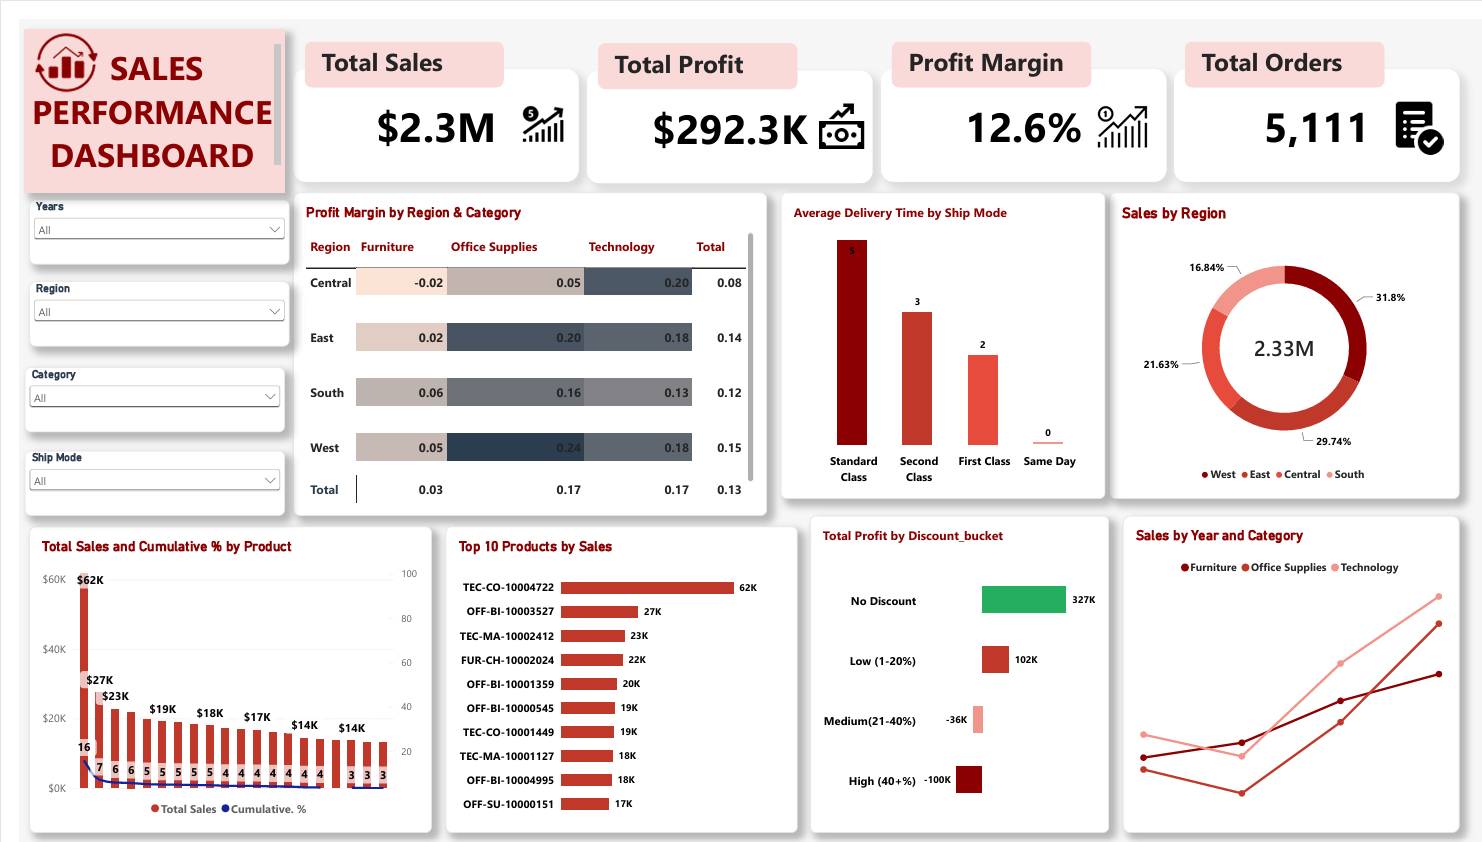

What the dashboard file says about the page in this screenshot:
{"tool":"powerbi","page":{"name":"Page 1","canvas":[1920,1080],"ordinal":0},"visuals":[{"type":"card","title":"Total Sales","fields":{"Values":["Orders.Profit Margin"]},"box":[1125.6,65.2,372.8,146.6],"z":0,"group":"g2"},{"type":"card","title":"Total Sales","fields":{"Values":["Orders.Total Orders"]},"box":[1509.3,65.2,372.8,146.6],"z":0,"group":"g3"},{"type":"card","title":"Total Sales","fields":{"Values":["Orders.Total Profit"]},"box":[742,67,372.8,146.6],"z":0,"group":"g1"},{"type":"textbox","box":[365.6,427.1,381.8,204.5],"z":0},{"type":"card","title":"Total Sales","fields":{"Values":["Orders.Total Sales"]},"box":[358.3,65,372.8,146.6],"z":1000},{"type":"group","id":"g1","title":"Group 1","box":[742,30.8,372.8,182.8],"z":2000},{"type":"shape","box":[372.8,29,260.6,59.7],"z":3000},{"type":"shape","box":[1140.1,29,260.6,59.7],"z":3000,"group":"g2"},{"type":"shape","box":[1523.8,29,260.6,59.7],"z":3000,"group":"g3"},{"type":"shape","box":[756.5,30.8,260.6,59.7],"z":3000,"group":"g1"},{"type":"group","id":"g2","title":"Group 1","box":[1125.6,29,372.8,182.8],"z":4000},{"type":"textbox","box":[1161.8,32.6,217.2,56.1],"z":4000,"group":"g2"},{"type":"textbox","box":[1545.5,32.6,217.2,56.1],"z":4000,"group":"g3"},{"type":"textbox","box":[778.2,34.4,217.2,56.1],"z":4000,"group":"g1"},{"type":"textbox","box":[394.5,32.6,217.2,56.1],"z":5000},{"type":"group","id":"g3","title":"Group 1","box":[1509.3,29,372.8,182.8],"z":6000},{"type":"lineChart","title":"Sales by Year and Category","fields":{"Category":["Orders.Order Date.Variation.Date Hierarchy.Year"],"Y":["Orders.Total Sales"],"Series":["Orders.Category"]},"box":[1426,656.9,456,405.4],"z":7000},{"type":"donutChart","title":"Sales by Region","fields":{"Category":["Orders.Region"],"Y":["Orders.Total Sales"]},"box":[1424.2,226.2,457.8,421.7],"z":8000},{"type":"image","box":[637,105,94.1,65.1],"z":9000},{"type":"image","box":[1033.3,103.2,81.4,72.4],"z":10000},{"type":"image","box":[1400.7,103.2,81.4,72.4],"z":11000},{"type":"image","box":[1784.3,105,81.4,72.4],"z":12000},{"type":"pivotTable","title":"Profit Margin by Region & Category","fields":{"Rows":["Orders.Region"],"Columns":["Orders.Category"],"Values":["Orders.Profit Margin"]},"box":[358.3,226.2,618.9,421.7],"z":13000},{"type":"pivotTable","fields":{"Rows":["Orders.Discount_bucket"],"Values":["Orders.Total Profit"]},"box":[1022.5,662.3,396.3,399.9],"z":14000},{"type":"clusteredColumnChart","fields":{"Category":["Orders.Ship Mode"],"Y":["Orders.Avg Delivery Days"]},"box":[995.3,226.2,423.5,421.7],"z":15000},{"type":"clusteredBarChart","title":"Top 10 Products by Sales","fields":{"Y":["Orders.Total Sales"],"Category":["Orders.Product ID"]},"box":[545,663,470,400],"z":16000},{"type":"lineStackedColumnComboChart","title":"Total Sales and Cumulative % by Product","fields":{"Y":["Orders.Total Sales"],"Category":["Orders.Product ID"],"Y2":["Orders.Cumulative. %"]},"box":[12.7,662.3,532,399.9],"z":17000},{"type":"slicer","fields":{"Values":["Orders.Years"]},"box":[12.7,235.3,340.2,85.1],"z":18000},{"type":"slicer","fields":{"Values":["Orders.Region"]},"box":[12.7,342,340.2,85.1],"z":19000},{"type":"slicer","fields":{"Values":["Orders.Category"]},"box":[7.2,454.2,340.2,85.1],"z":20000},{"type":"slicer","fields":{"Values":["Orders.Ship Mode"]},"box":[7.2,562.8,340.2,85.1],"z":21000},{"type":"shape","box":[7.2,12.7,340.2,213.5],"z":22000},{"type":"textbox","box":[7.2,25.3,320.3,224.4],"z":23000},{"type":"image","box":[18.1,12.7,86.9,86.9],"z":24000}]}

Visuals, with their boxes in screenshot pixels (x1, y1, x2, y2), scaled from the page's 1920x1080 canvas onto the 1482x842 screenshot:
"Total Sales" card: {"left": 869, "top": 51, "right": 1157, "bottom": 165}
"Total Sales" card: {"left": 1165, "top": 51, "right": 1453, "bottom": 165}
"Total Sales" card: {"left": 573, "top": 52, "right": 860, "bottom": 167}
textbox: {"left": 282, "top": 333, "right": 577, "bottom": 492}
"Total Sales" card: {"left": 277, "top": 51, "right": 564, "bottom": 165}
"Group 1" group: {"left": 573, "top": 24, "right": 860, "bottom": 167}
shape: {"left": 288, "top": 23, "right": 489, "bottom": 69}
shape: {"left": 880, "top": 23, "right": 1081, "bottom": 69}
shape: {"left": 1176, "top": 23, "right": 1377, "bottom": 69}
shape: {"left": 584, "top": 24, "right": 785, "bottom": 71}
"Group 1" group: {"left": 869, "top": 23, "right": 1157, "bottom": 165}
textbox: {"left": 897, "top": 25, "right": 1064, "bottom": 69}
textbox: {"left": 1193, "top": 25, "right": 1361, "bottom": 69}
textbox: {"left": 601, "top": 27, "right": 768, "bottom": 71}
textbox: {"left": 305, "top": 25, "right": 472, "bottom": 69}
"Group 1" group: {"left": 1165, "top": 23, "right": 1453, "bottom": 165}
"Sales by Year and Category" lineChart: {"left": 1101, "top": 512, "right": 1453, "bottom": 828}
"Sales by Region" donutChart: {"left": 1099, "top": 176, "right": 1453, "bottom": 505}
image: {"left": 492, "top": 82, "right": 564, "bottom": 133}
image: {"left": 798, "top": 80, "right": 860, "bottom": 137}
image: {"left": 1081, "top": 80, "right": 1144, "bottom": 137}
image: {"left": 1377, "top": 82, "right": 1440, "bottom": 138}
"Profit Margin by Region & Category" pivotTable: {"left": 277, "top": 176, "right": 754, "bottom": 505}
pivotTable - Orders.Discount_bucket x Orders.Total Profit: {"left": 789, "top": 516, "right": 1095, "bottom": 828}
clusteredColumnChart - Orders.Ship Mode x Orders.Avg Delivery Days: {"left": 768, "top": 176, "right": 1095, "bottom": 505}
"Top 10 Products by Sales" clusteredBarChart: {"left": 421, "top": 517, "right": 783, "bottom": 829}
"Total Sales and Cumulative % by Product" lineStackedColumnComboChart: {"left": 10, "top": 516, "right": 420, "bottom": 828}
slicer - Orders.Years: {"left": 10, "top": 183, "right": 272, "bottom": 250}
slicer - Orders.Region: {"left": 10, "top": 267, "right": 272, "bottom": 333}
slicer - Orders.Category: {"left": 6, "top": 354, "right": 268, "bottom": 420}
slicer - Orders.Ship Mode: {"left": 6, "top": 439, "right": 268, "bottom": 505}
shape: {"left": 6, "top": 10, "right": 268, "bottom": 176}
textbox: {"left": 6, "top": 20, "right": 253, "bottom": 195}
image: {"left": 14, "top": 10, "right": 81, "bottom": 78}
